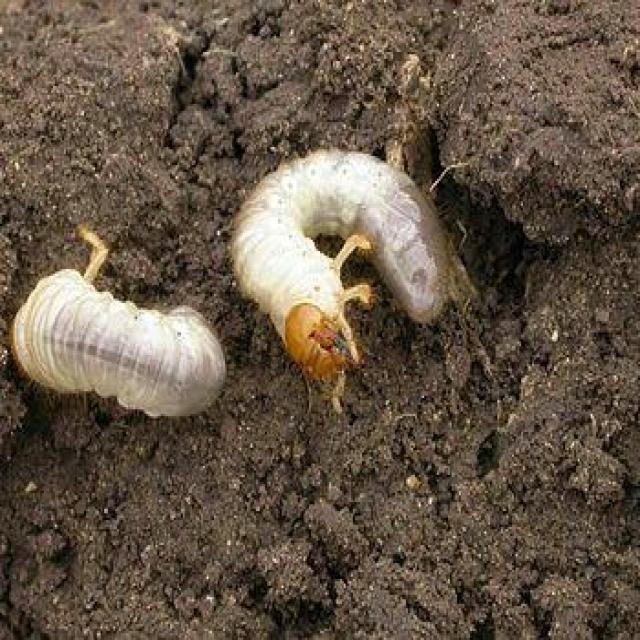grub: (230, 146, 471, 390), (10, 252, 226, 433)
